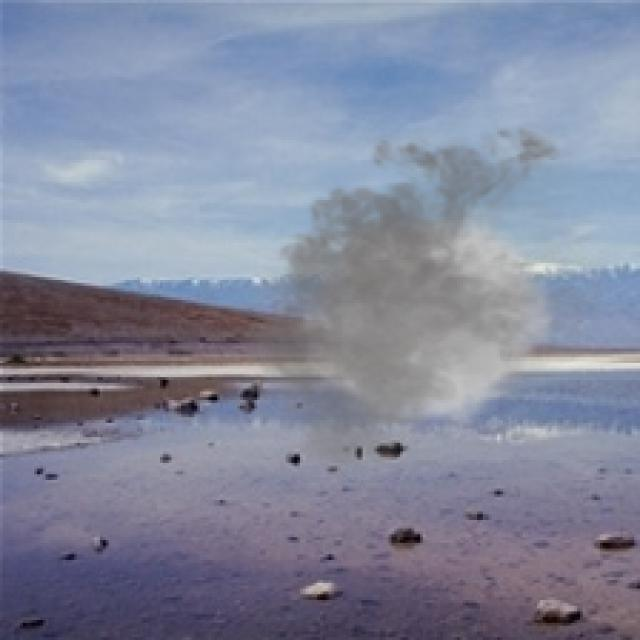smoke: (225, 114, 626, 483)
